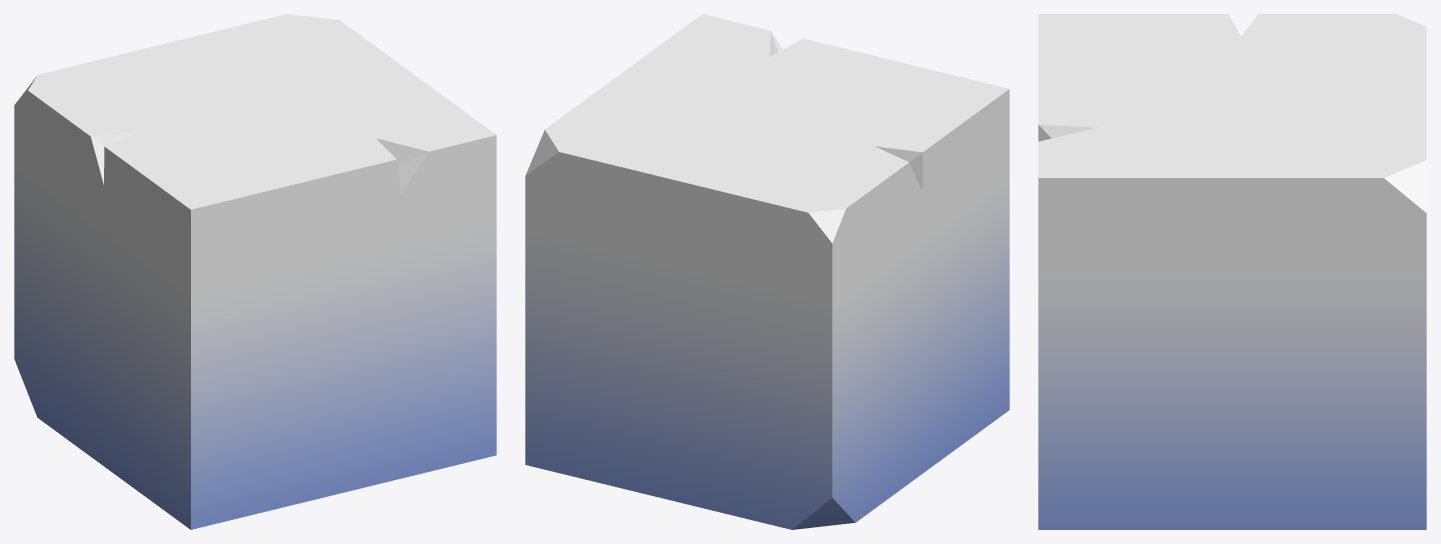
The model's file is Stone016.fbx.
The picture shows the model from 3 angles, left to right: view 1: azimuth 30°, elevation 25°; view 2: azimuth 150°, elevation 25°; view 3: azimuth 270°, elevation 25°; orthographic projection. The views are drawn at different scales.
Visible parts, largest first — view 1: Stone016; view 2: Stone016; view 3: Stone016.
Part boxes in pixels (x1,y1,x2,y2): Stone016: [14, 14, 496, 529]; Stone016: [525, 14, 1009, 529]; Stone016: [1038, 14, 1426, 529].
Bounding box in the file's own units: 156 × 156 × 156.
